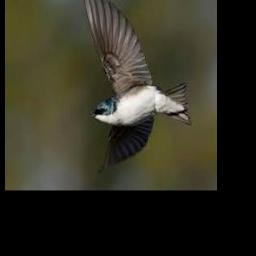Swallow: (82, 0, 191, 173)
